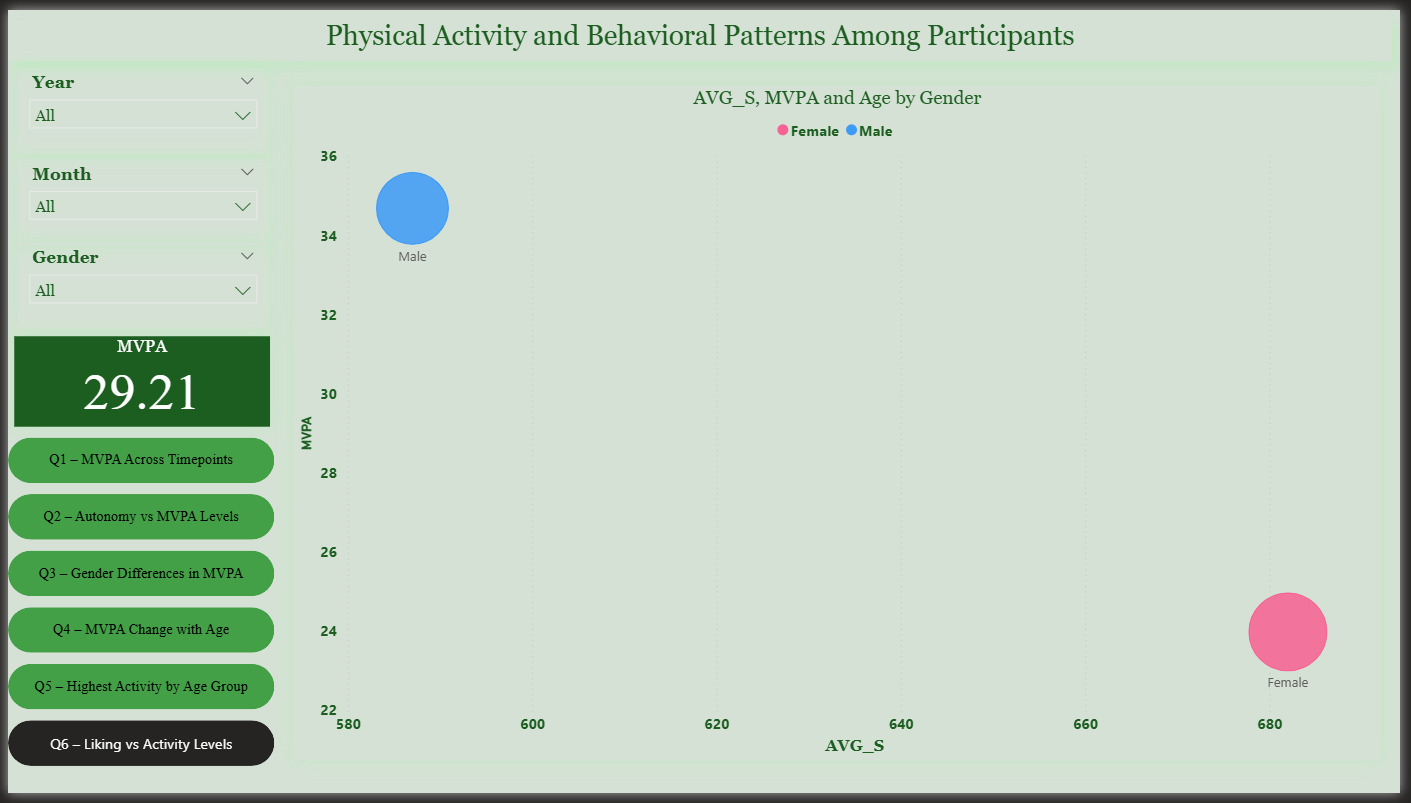

The dashboard page shown, as its layout file describes it:
{"tool":"powerbi","page":{"name":"Q6 – Liking vs Activity Levels","canvas":[1280,720],"ordinal":5},"visuals":[{"type":"textbox","title":"Physical Activity and Behavioral Patterns Among Participants","box":[0,9.7,1272.8,37.4],"z":0},{"type":"slicer","fields":{"Values":["ActivityData_Clean.File_Date.Variation.Date Hierarchy.Year"]},"box":[8.7,53.1,229.8,78.9],"z":0,"group":"g1"},{"type":"scatterChart","fields":{"X":["Sum(LikingData_Clean.AVG_S)"],"Y":["Avg(ActivityData_Clean.MVPA)"],"Series":["Demographics_Clean.Gender"],"Size":["Sum(Demographics_Clean.Age)"]},"box":[263.6,70.1,998.7,619.5],"z":1000},{"type":"slicer","fields":{"Values":["ActivityData_Clean.File_Date.Variation.Date Hierarchy.Month"]},"box":[8.7,136.8,229.8,78.9],"z":1000,"group":"g1"},{"type":"group","id":"g1","title":"Group 1","box":[0,53.1,245.5,648.2],"z":2000},{"type":"slicer","fields":{"Values":["ActivityData_Clean.Gender"]},"box":[9.1,214.3,229.9,79.2],"z":2000,"group":"g1"},{"type":"kpi","title":"MVPA","fields":{"Indicator":["Avg(ActivityData_Clean.MVPA)"],"TrendLine":["LikingData_Clean.Week"]},"box":[6,299.9,235.1,83.1],"z":5000,"group":"g1"},{"type":"pageNavigator","box":[0,393.5,245.5,307.8],"z":6001,"group":"g1"}]}

Visuals, with their boxes in screenshot pixels (x1, y1, x2, y2), scaled from the page's 1280x720 canvas onto the 1411x803 screenshot:
"Physical Activity and Behavioral Patterns Among Participants" textbox: bbox(0, 11, 1403, 53)
slicer - ActivityData_Clean.File_Date.Variation.Date Hierarchy.Year: bbox(10, 59, 263, 147)
scatterChart - Sum(LikingData_Clean.AVG_S) x Avg(ActivityData_Clean.MVPA): bbox(291, 78, 1391, 769)
slicer - ActivityData_Clean.File_Date.Variation.Date Hierarchy.Month: bbox(10, 153, 263, 241)
"Group 1" group: bbox(0, 59, 271, 782)
slicer - ActivityData_Clean.Gender: bbox(10, 239, 263, 327)
"MVPA" kpi: bbox(7, 334, 266, 427)
pageNavigator: bbox(0, 439, 271, 782)
